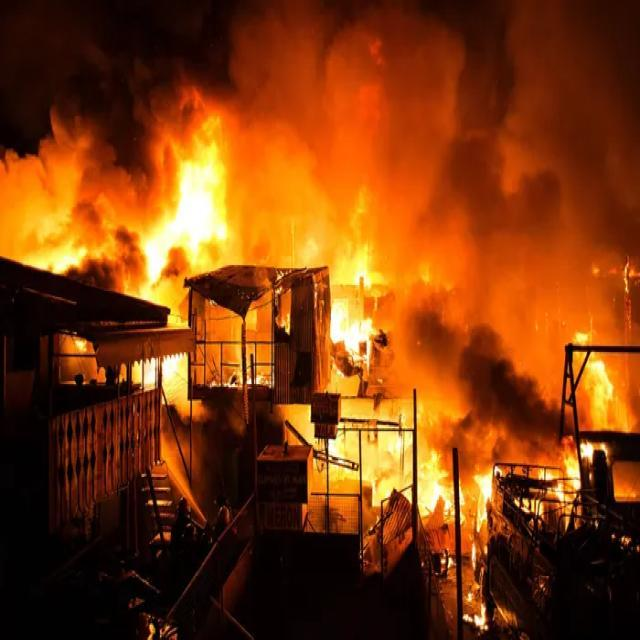Fire: (324, 255, 412, 400), (130, 158, 237, 272), (417, 420, 492, 578), (576, 346, 630, 439)
Smoke: (210, 0, 640, 215), (0, 0, 208, 160), (417, 266, 558, 420)
